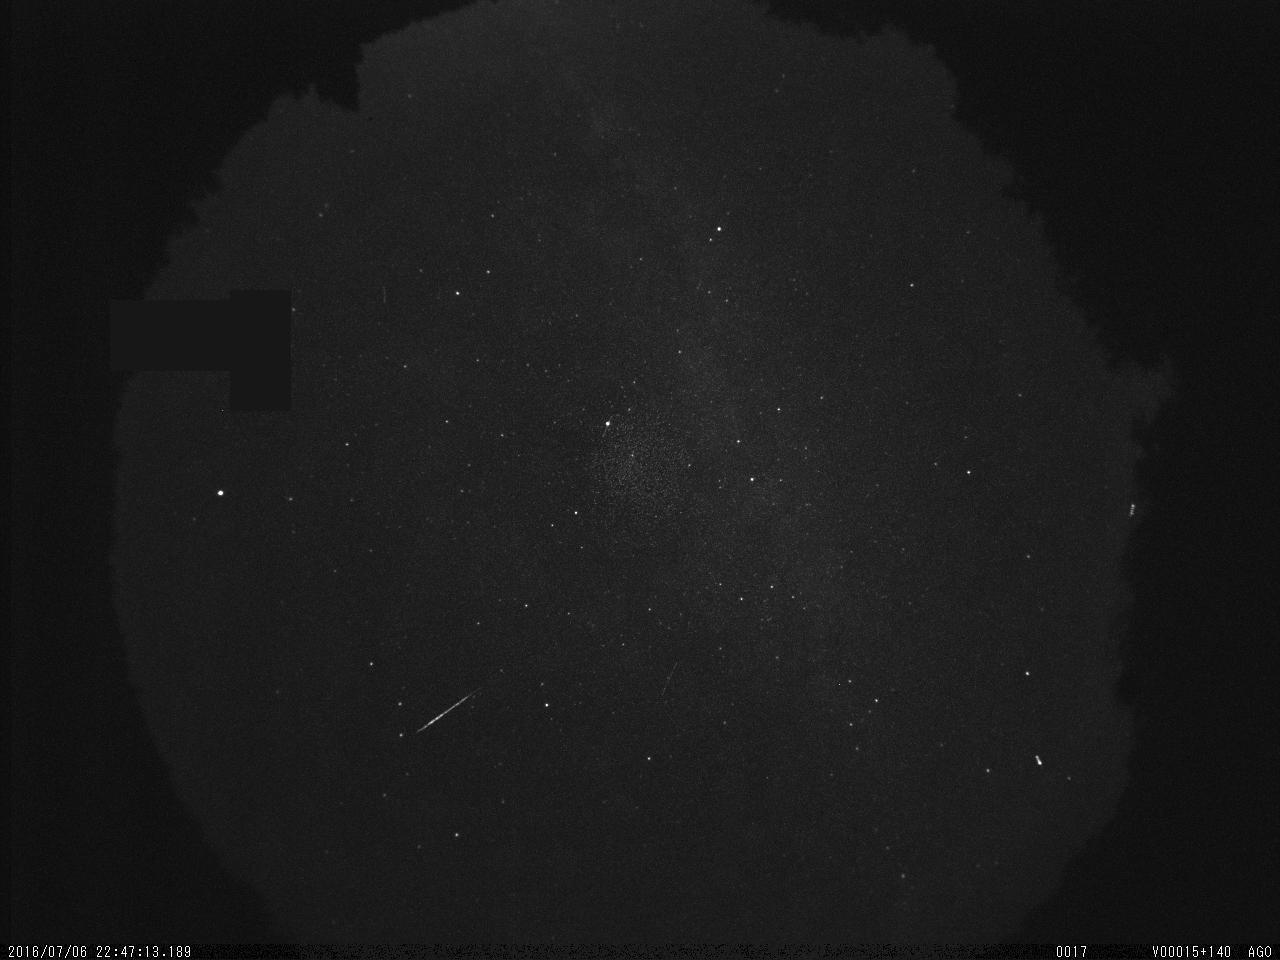meteor: (394, 690, 504, 745)
